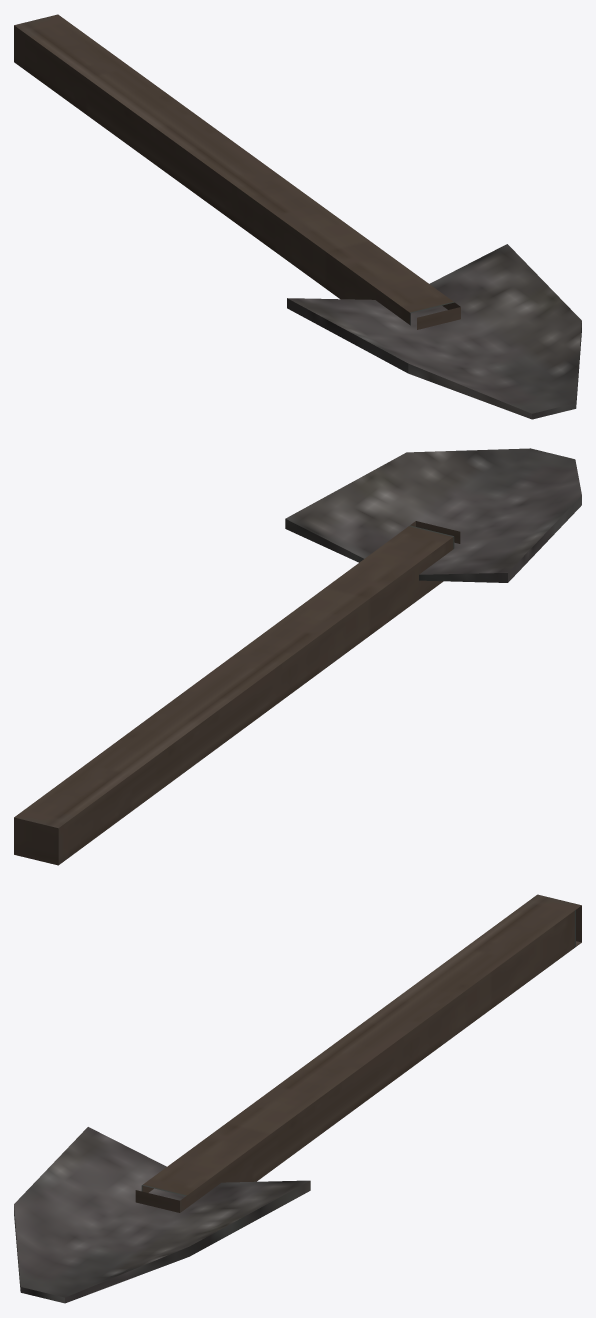
The model's file is pm-love-death-shovel.glb.
3 views of the same model, one above another, from view 1: azimuth 30°, elevation 25°; view 2: azimuth 150°, elevation 25°; view 3: azimuth 330°, elevation 25° (orthographic).
Visible parts, largest first — view 1: LoveDeath_Shovel_Art; view 2: LoveDeath_Shovel_Art; view 3: LoveDeath_Shovel_Art.
Boxes of the visible parts, left/top/right/bottom form: LoveDeath_Shovel_Art: left=14, top=14, right=581, bottom=419; LoveDeath_Shovel_Art: left=14, top=448, right=581, bottom=865; LoveDeath_Shovel_Art: left=14, top=894, right=581, bottom=1303.
Size of the model in its own units: 0.6743 by 0.1426 by 2.73.
1 material, 1 textured.
